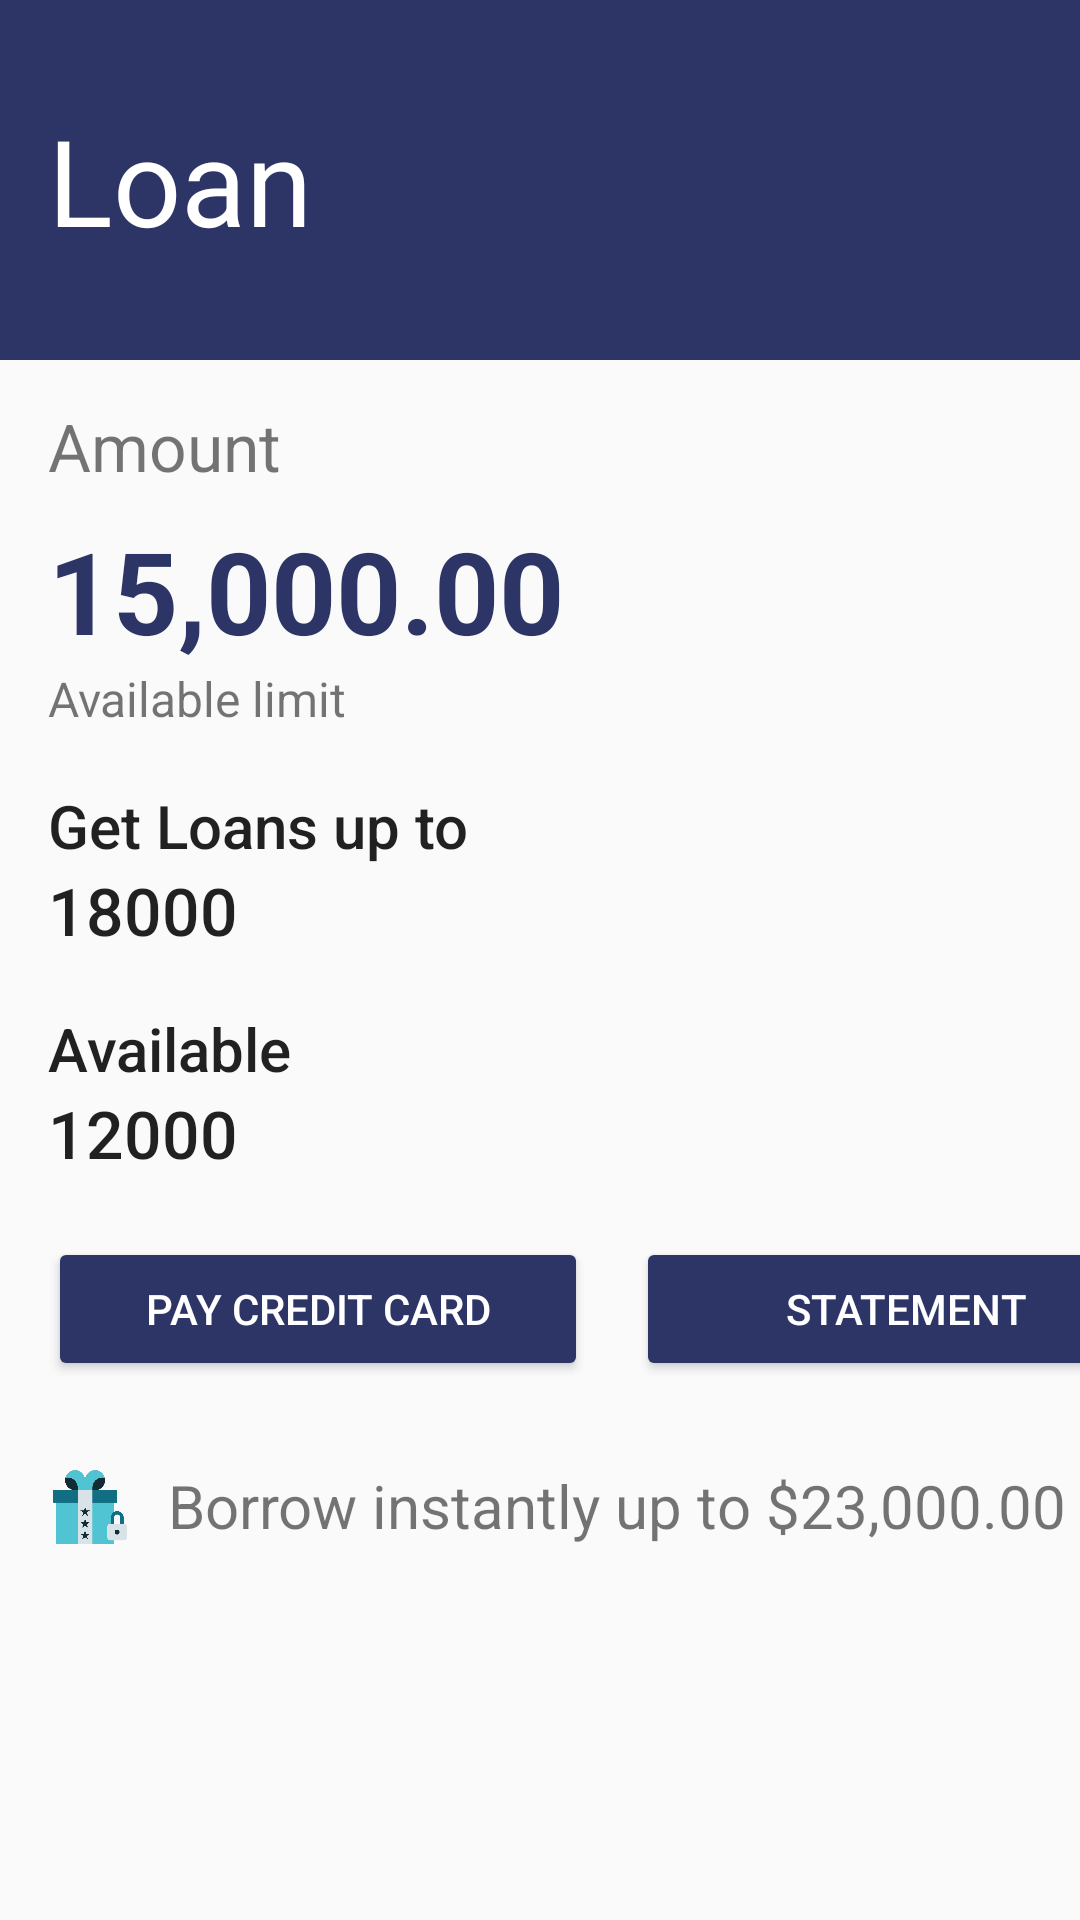

Where to tap for icons on this 1080x1920 app screen, as [x,y]:
surpise box: [90,1507]
